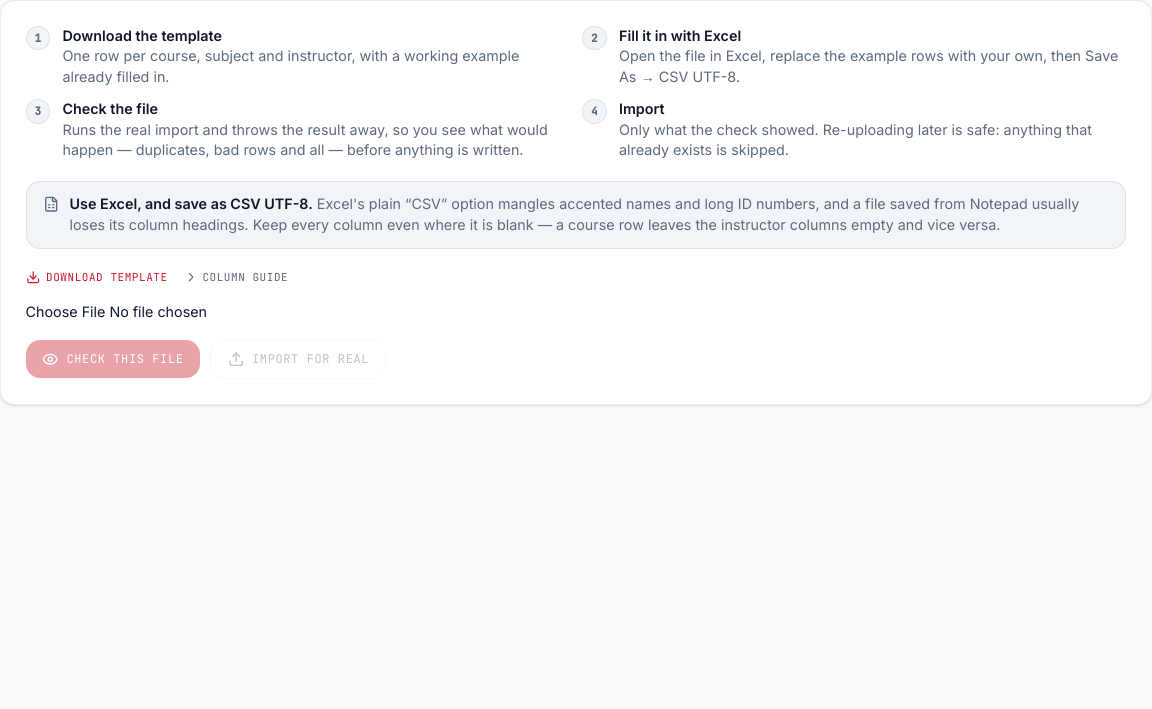
Scenario: Bulk import — the offering layer › says sections and enrolments follow the running term
Click the button "Column guide". click: (236, 277)
box: [184, 269, 288, 286]
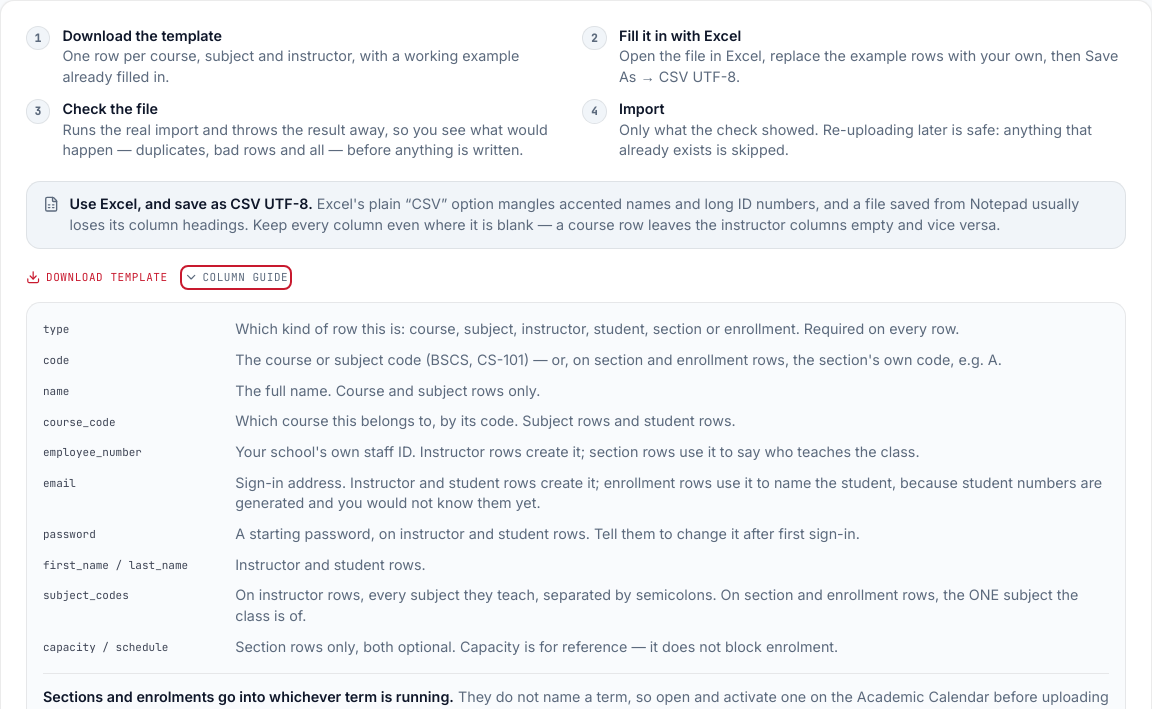
Expected: the text "Sections and enrolments go into whichever term is running." is shown, [43, 688, 454, 705]
